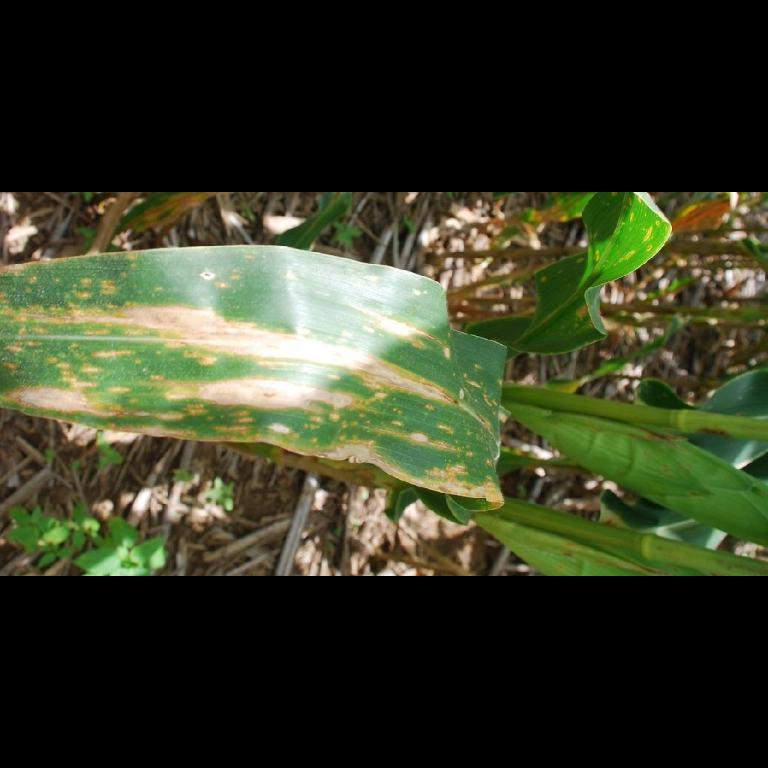blight: (34, 292, 298, 400)
